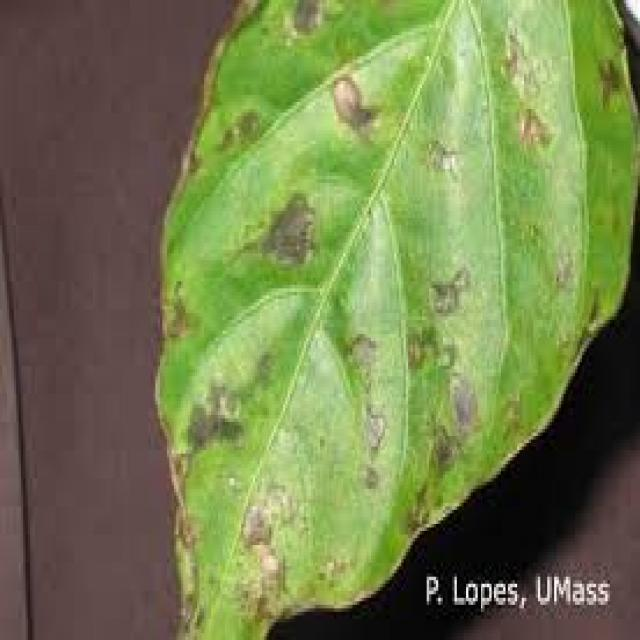bercak_daun: (161, 0, 637, 633)
